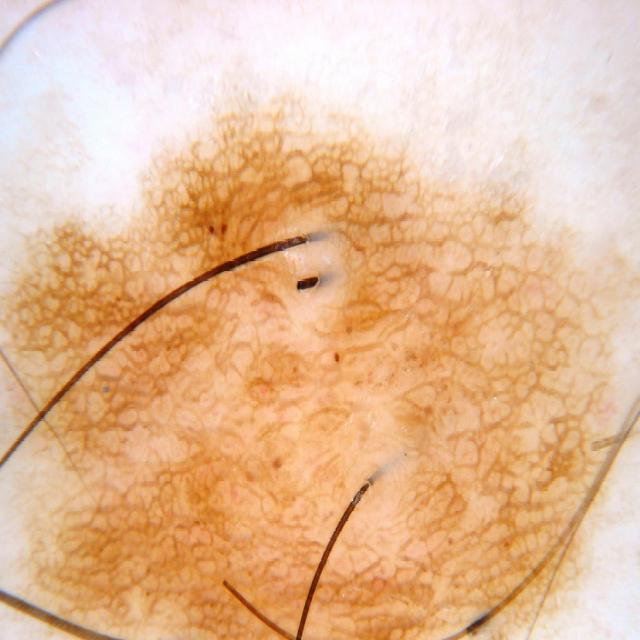Melanoma: (0, 54, 629, 640)
